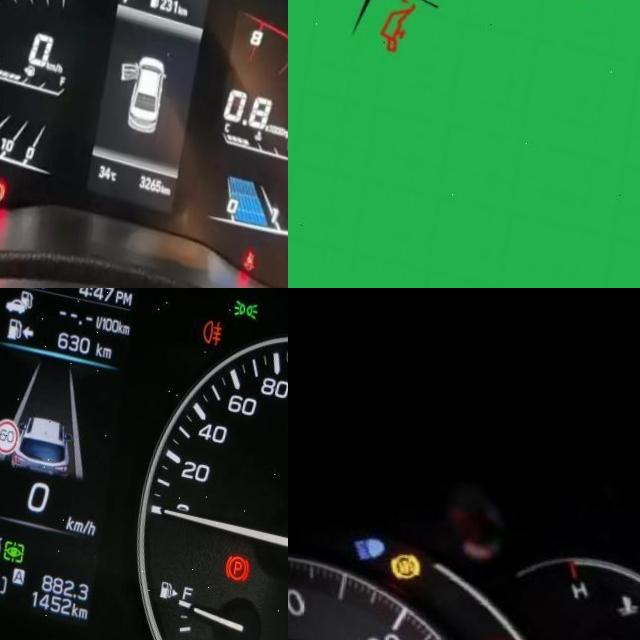Seat Belt: (258, 229, 272, 251)
